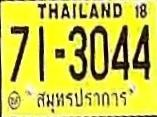0: (90, 26, 108, 80)
1: (38, 26, 45, 82)
3: (68, 25, 87, 80)
4: (111, 24, 129, 80), (132, 24, 150, 79)
7: (10, 25, 29, 82)
SPK: (33, 87, 128, 114)
